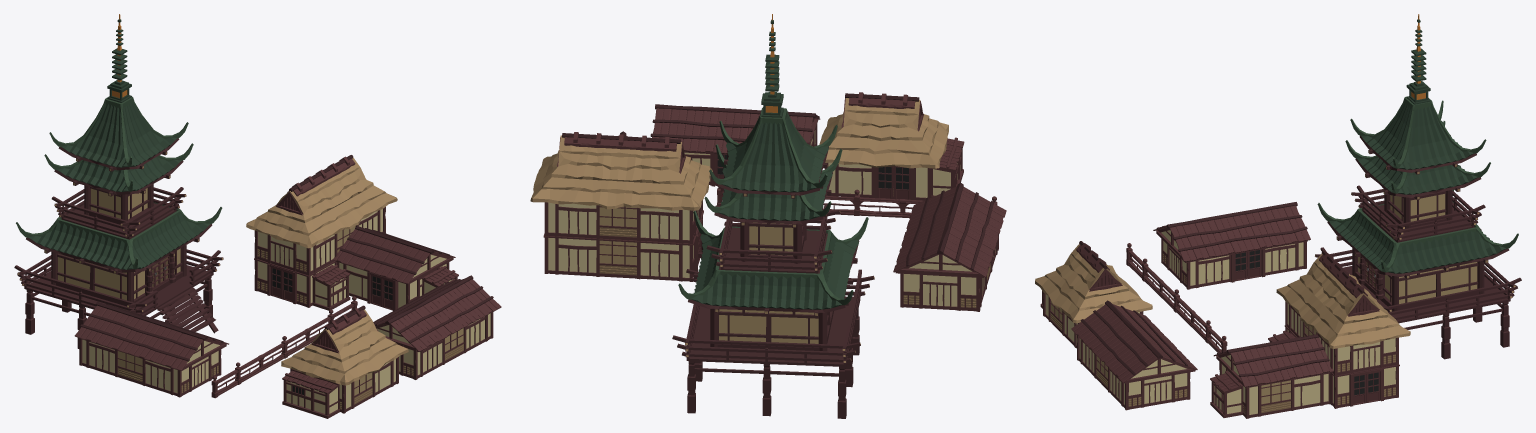
Rendered from environment.glb.
The picture shows the model from 3 angles, left to right: view 1: azimuth 30°, elevation 25°; view 2: azimuth 150°, elevation 25°; view 3: azimuth 270°, elevation 25°; orthographic projection. The views are drawn at different scales.
Parts seen in each view (by area): view 1: SM_Bld_House_Roof_Long_Thatch_10, SM_Bld_Temple_Roof_Medium_4, SM_Bld_House_Roof_Long_Wood_12, SM_Bld_House_Roof_Thatch_8, SM_Bld_House_Roof_Long_Wood_11, SM_Bld_Temple_Roof_Small_10, SM_Bld_House_Roof_Wood_10, SM_Bld_Platform_Medium_2, SM_Bld_House_Base_Long_160, SM_Bld_Temple_Base_Medium_4, SM_Bld_Temple_Roof_Small_9, SM_Bld_House_Base_Long_34 (+15 smaller); view 2: SM_Bld_House_Roof_Long_Thatch_10, SM_Bld_Temple_Roof_Medium_4, SM_Bld_House_Roof_Thatch_8, SM_Bld_House_Roof_Long_Wood_12, SM_Bld_Temple_Roof_Small_10, SM_Bld_House_Base_Long_35, SM_Bld_Platform_Medium_2, SM_Bld_House_Base_Long_34, SM_Bld_House_Roof_Long_Wood_11, SM_Bld_Temple_Base_Medium_4, SM_Bld_Temple_Roof_Small_9, SM_Bld_Platform_Small_6 (+9 smaller); view 3: SM_Bld_House_Roof_Long_Thatch_10, SM_Bld_Temple_Roof_Medium_4, SM_Bld_House_Roof_Long_Wood_12, SM_Bld_House_Roof_Long_Wood_11, SM_Bld_Temple_Roof_Small_10, SM_Bld_House_Roof_Thatch_8, SM_Bld_House_Roof_Wood_10, SM_Bld_Temple_Base_Medium_4, SM_Bld_Platform_Medium_2, SM_Bld_House_Base_Long_160, SM_Bld_Temple_Roof_Small_9, SM_Bld_House_Base_Long_36 (+12 smaller).
Part boxes in pixels (bbox=[...]): SM_Bld_House_Roof_Long_Thatch_10: bbox=[246, 155, 397, 248]; SM_Bld_Temple_Roof_Medium_4: bbox=[16, 202, 222, 274]; SM_Bld_House_Roof_Long_Wood_12: bbox=[74, 301, 228, 371]; SM_Bld_House_Roof_Thatch_8: bbox=[281, 305, 408, 385]; SM_Bld_House_Roof_Long_Wood_11: bbox=[373, 275, 501, 351]; SM_Bld_Temple_Roof_Small_10: bbox=[49, 96, 188, 171]; SM_Bld_House_Roof_Wood_10: bbox=[333, 226, 455, 284]; SM_Bld_Platform_Medium_2: bbox=[14, 249, 223, 315]; SM_Bld_House_Base_Long_160: bbox=[79, 338, 221, 397]; SM_Bld_Temple_Base_Medium_4: bbox=[51, 245, 186, 307]; SM_Bld_Temple_Roof_Small_9: bbox=[44, 143, 193, 196]; SM_Bld_House_Base_Long_34: bbox=[254, 207, 385, 275]; SM_Bld_House_Roof_Long_Thatch_10: bbox=[530, 132, 712, 210]; SM_Bld_Temple_Roof_Medium_4: bbox=[678, 210, 868, 316]; SM_Bld_House_Roof_Thatch_8: bbox=[819, 92, 948, 168]; SM_Bld_House_Roof_Long_Wood_12: bbox=[893, 182, 1006, 277]; SM_Bld_Temple_Roof_Small_10: bbox=[709, 108, 837, 198]; SM_Bld_House_Base_Long_35: bbox=[543, 210, 703, 281]; SM_Bld_Platform_Medium_2: bbox=[672, 269, 874, 366]; SM_Bld_House_Base_Long_34: bbox=[544, 201, 702, 243]; SM_Bld_House_Roof_Long_Wood_11: bbox=[650, 104, 820, 154]; SM_Bld_Temple_Base_Medium_4: bbox=[710, 309, 833, 351]; SM_Bld_Temple_Roof_Small_9: bbox=[704, 144, 842, 227]; SM_Bld_Platform_Small_6: bbox=[706, 203, 840, 273]; SM_Bld_House_Roof_Long_Thatch_10: bbox=[1276, 250, 1410, 348]; SM_Bld_Temple_Roof_Medium_4: bbox=[1317, 189, 1518, 278]; SM_Bld_House_Roof_Long_Wood_12: bbox=[1153, 202, 1310, 262]; SM_Bld_House_Roof_Long_Wood_11: bbox=[1071, 300, 1197, 383]; SM_Bld_Temple_Roof_Small_10: bbox=[1350, 96, 1486, 174]; SM_Bld_House_Roof_Thatch_8: bbox=[1035, 241, 1152, 323]; SM_Bld_House_Roof_Wood_10: bbox=[1213, 334, 1333, 388]; SM_Bld_Temple_Base_Medium_4: bbox=[1352, 248, 1484, 311]; SM_Bld_Platform_Medium_2: bbox=[1315, 247, 1521, 323]; SM_Bld_House_Base_Long_160: bbox=[1161, 224, 1306, 289]; SM_Bld_Temple_Roof_Small_9: bbox=[1345, 121, 1490, 199]; SM_Bld_House_Base_Long_36: bbox=[1077, 335, 1190, 410].
Size of the model in its own units: 26.96 by 22.06 by 30.57.
1 material, 1 textured.
